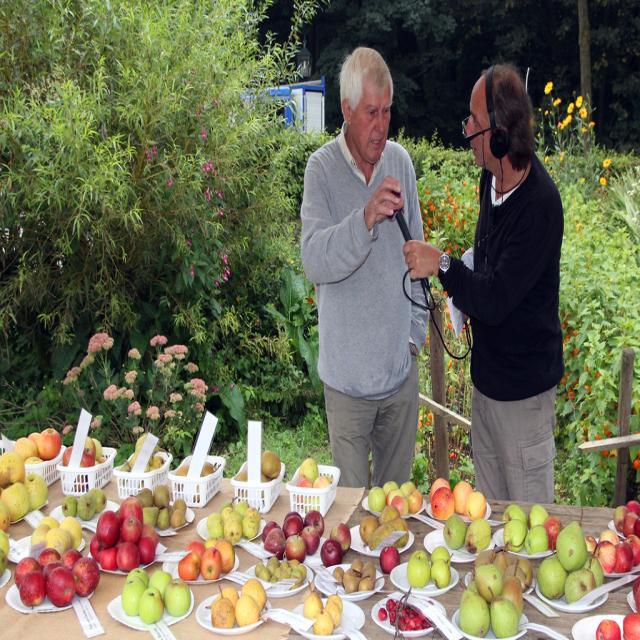Healty Apple: (90, 497, 160, 572), (13, 548, 98, 607), (584, 499, 640, 574), (262, 511, 324, 561), (367, 481, 423, 514), (0, 484, 29, 524), (162, 578, 192, 616), (45, 566, 74, 604), (120, 578, 146, 616), (137, 586, 163, 624), (1, 452, 27, 486), (24, 474, 48, 508), (592, 543, 616, 576), (502, 504, 528, 534), (406, 557, 431, 588), (502, 520, 526, 552), (37, 426, 61, 457), (175, 551, 199, 582), (432, 488, 455, 520), (148, 572, 173, 601), (542, 514, 562, 550), (59, 518, 82, 549), (524, 526, 549, 554), (200, 548, 221, 581), (453, 480, 473, 514), (46, 528, 72, 554), (466, 491, 488, 521), (318, 538, 342, 565), (12, 437, 37, 462), (217, 538, 235, 572), (330, 526, 350, 556), (381, 545, 402, 573), (430, 558, 451, 586), (613, 542, 631, 573), (431, 478, 452, 504), (430, 544, 452, 568), (85, 460, 102, 490), (314, 475, 331, 505), (623, 534, 640, 564), (298, 459, 318, 484), (295, 476, 311, 506), (596, 620, 620, 640), (528, 504, 548, 526), (622, 615, 640, 639), (0, 499, 12, 534), (127, 568, 148, 588), (613, 508, 630, 531), (31, 524, 49, 544), (185, 540, 205, 557), (600, 528, 621, 543), (624, 512, 637, 536), (304, 491, 320, 510), (79, 450, 95, 468), (84, 435, 96, 458), (29, 432, 40, 457), (312, 477, 332, 490), (1, 530, 10, 558), (63, 444, 74, 466), (24, 454, 44, 466), (40, 517, 60, 529), (73, 475, 85, 495), (632, 572, 640, 602), (91, 437, 102, 458), (584, 535, 596, 551), (624, 502, 640, 514), (634, 585, 640, 615), (0, 554, 7, 577), (206, 533, 217, 547), (412, 550, 427, 558), (204, 538, 216, 547), (28, 431, 38, 440), (636, 516, 640, 538)
